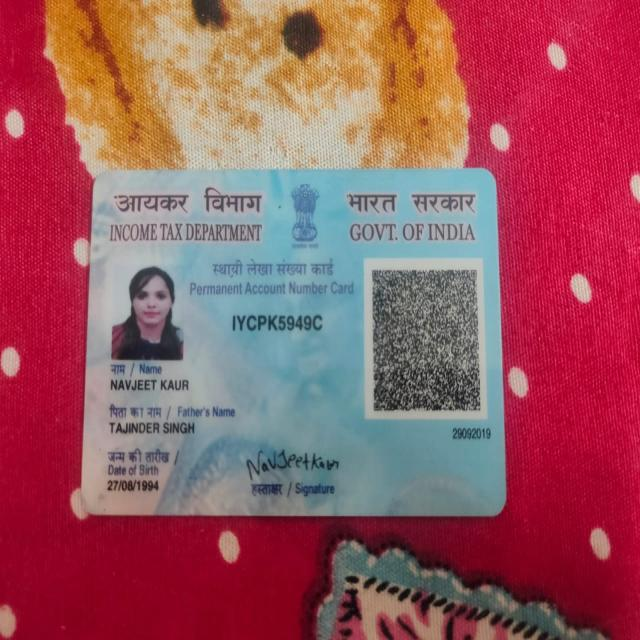pan_card: (85, 168, 502, 520)
